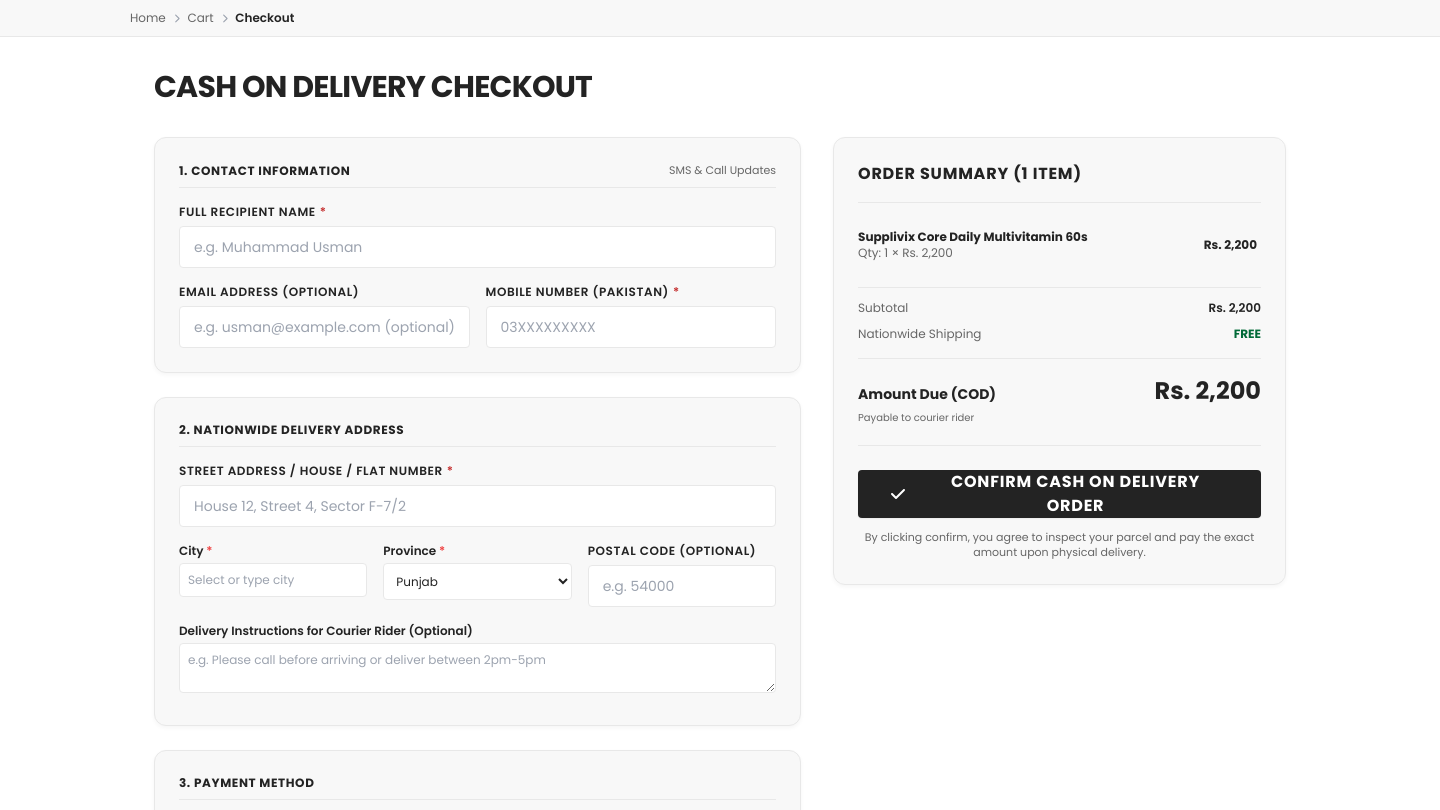
Phase 9: Cart, Shipping, Coupon & COD Component Suite › COD-01 & COD-04: CheckoutPage validates required fields with inline feedback
The width and height of the screenshot is (1440, 810).
Check: the heading "Cash on Delivery Checkout" is shown, box top-left (154, 66), bottom-right (592, 108)
Click the button "Confirm Cash on Delivery Order" at (1060, 494), box top-left (858, 470), bottom-right (1261, 518)
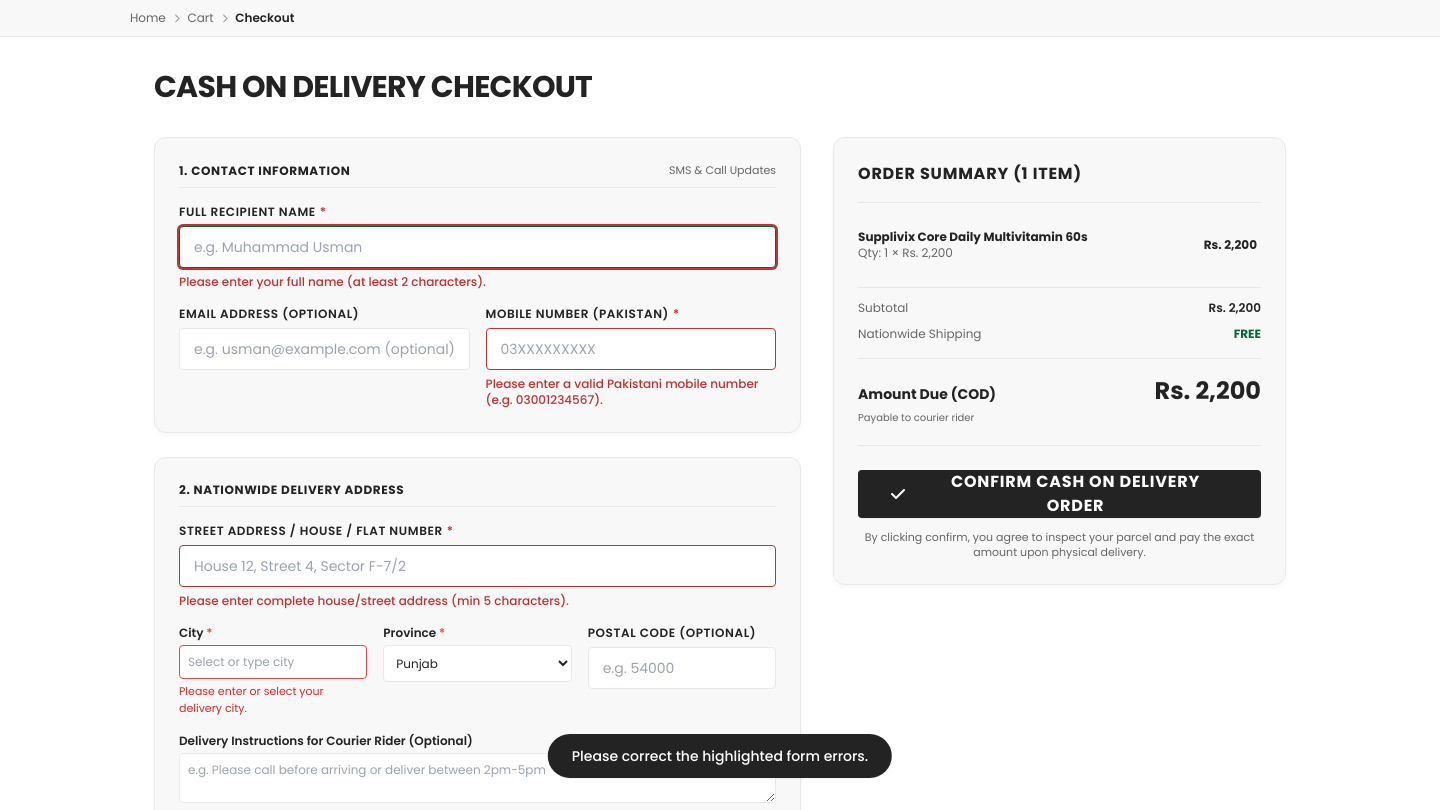
Check: the text "Please enter your full name (at least 2 characters)." is shown, box top-left (179, 273), bottom-right (486, 290)
Check: the text "Please enter complete house/street address (min 5 characters)." is shown, box top-left (179, 592), bottom-right (569, 609)
